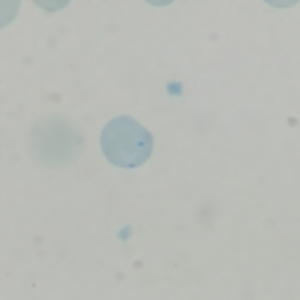punctate reticulocyte: (98, 113, 156, 171)
